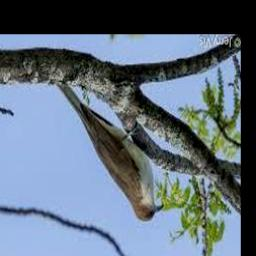Cuckoo: (56, 84, 164, 222)
